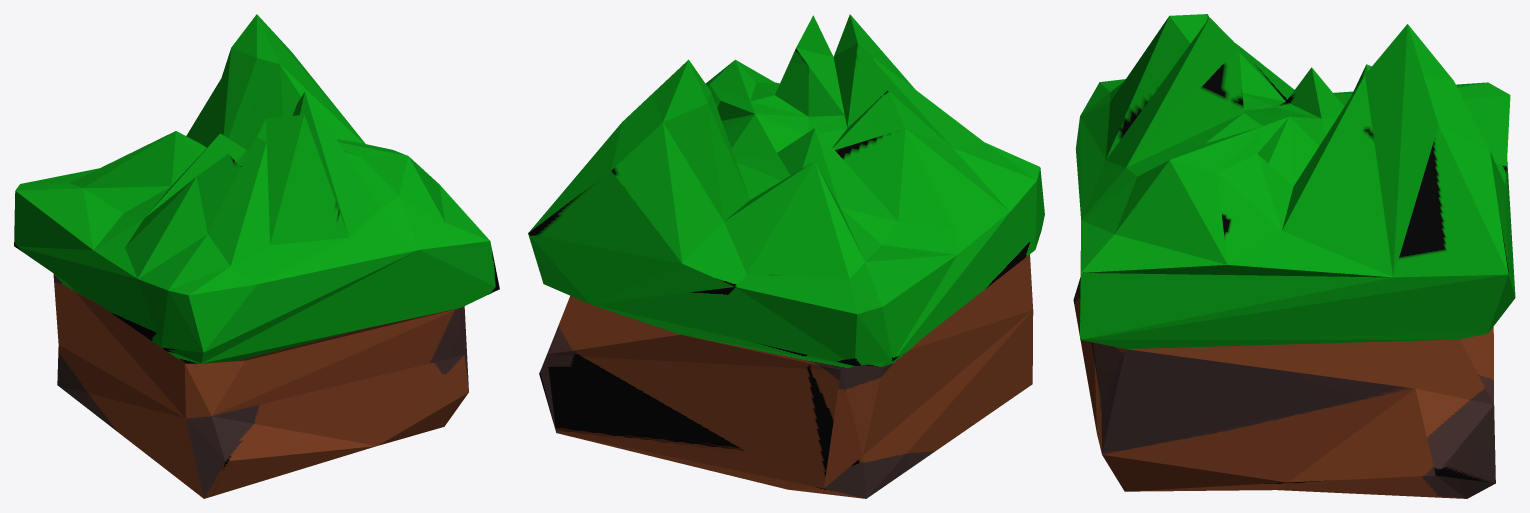
Rendered from MountainBlock.fbx.
3 renders of one model, left to right at view 1: azimuth 30°, elevation 25°; view 2: azimuth 150°, elevation 25°; view 3: azimuth 270°, elevation 25°, orthographic. The views are drawn at different scales.
Visible parts, largest first — view 1: Cube; view 2: Cube; view 3: Cube.
Boxes of the visible parts, x1,y1,x2,y2 form: Cube: (14,14,499,498); Cube: (528,14,1044,498); Cube: (1073,14,1515,498).
Size of the model in its own units: 216 by 212 by 199.
